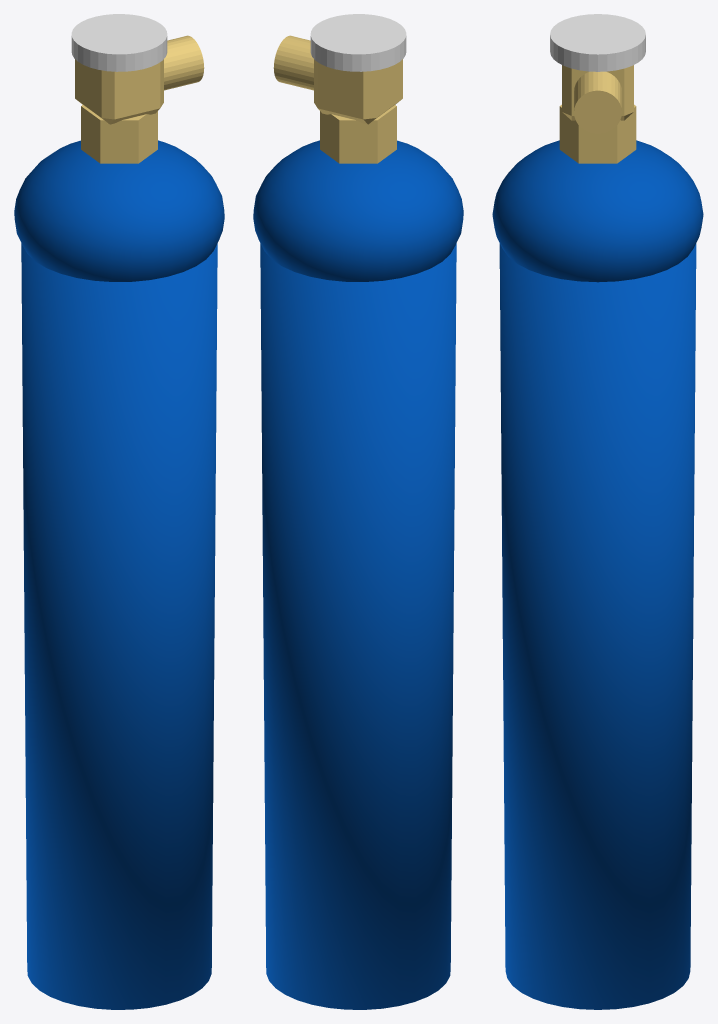
The model's file is oksijen-tup (1).fbx.
The picture shows the model from 3 angles, left to right: view 1: azimuth 30°, elevation 25°; view 2: azimuth 150°, elevation 25°; view 3: azimuth 270°, elevation 25°; orthographic projection.
Visible parts, largest first — view 1: Cylinder, Sphere, Cylinder.003, Cube, Cylinder.001, Cylinder.002; view 2: Cylinder, Sphere, Cylinder.003, Cube, Cylinder.001, Cylinder.002; view 3: Cylinder, Sphere, Cylinder.003, Cylinder.001, Cylinder.002, Cube.
Part boxes in pixels (x1,y1,x2,y2): Cylinder: [21, 243, 217, 1009]; Sphere: [14, 140, 224, 281]; Cylinder.003: [71, 14, 167, 71]; Cube: [75, 59, 163, 124]; Cylinder.001: [81, 105, 157, 163]; Cylinder.002: [164, 35, 204, 90]; Cylinder: [260, 243, 456, 1009]; Sphere: [253, 140, 463, 281]; Cylinder.003: [310, 14, 406, 71]; Cube: [314, 59, 402, 124]; Cylinder.001: [320, 105, 396, 163]; Cylinder.002: [273, 35, 313, 90]; Cylinder: [499, 243, 696, 1009]; Sphere: [492, 140, 703, 282]; Cylinder.003: [550, 14, 645, 71]; Cylinder.001: [559, 104, 636, 163]; Cylinder.002: [574, 71, 621, 133]; Cube: [562, 65, 633, 120].
Size of the model in its own units: 44 by 215 by 44.
